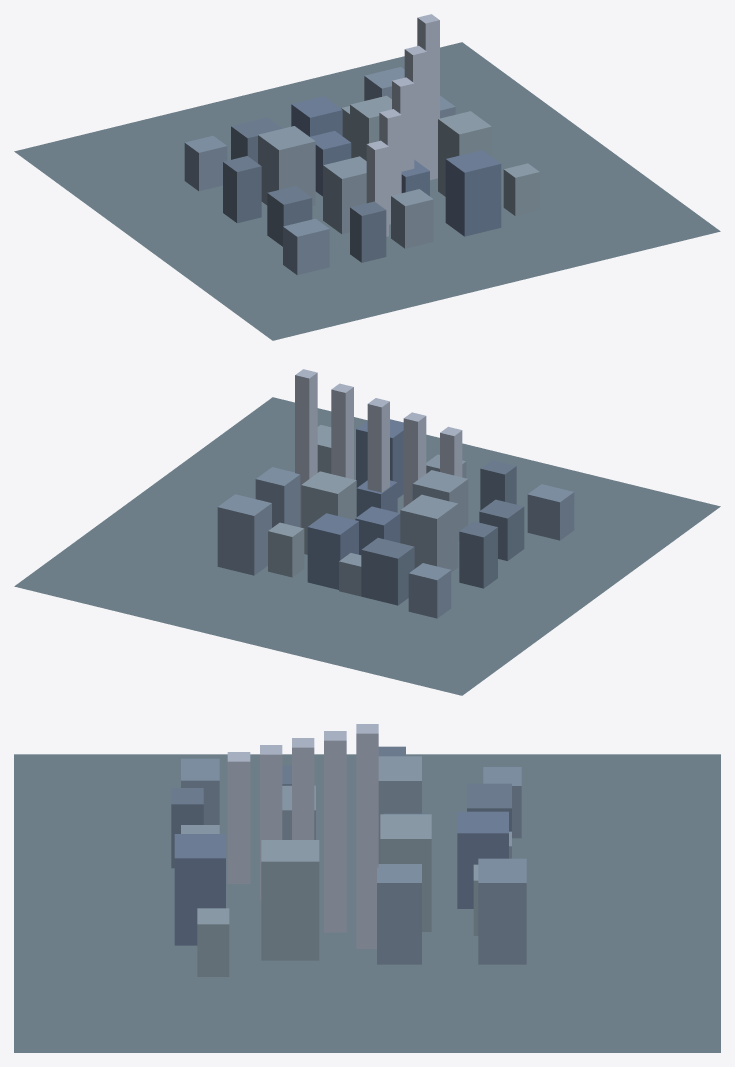
3 views of the same model, one above another, from view 1: azimuth 30°, elevation 25°; view 2: azimuth 150°, elevation 25°; view 3: azimuth 270°, elevation 25° (orthographic). The views are drawn at different scales.
Bounding box in the file's own units: 220 × 74 × 220.
